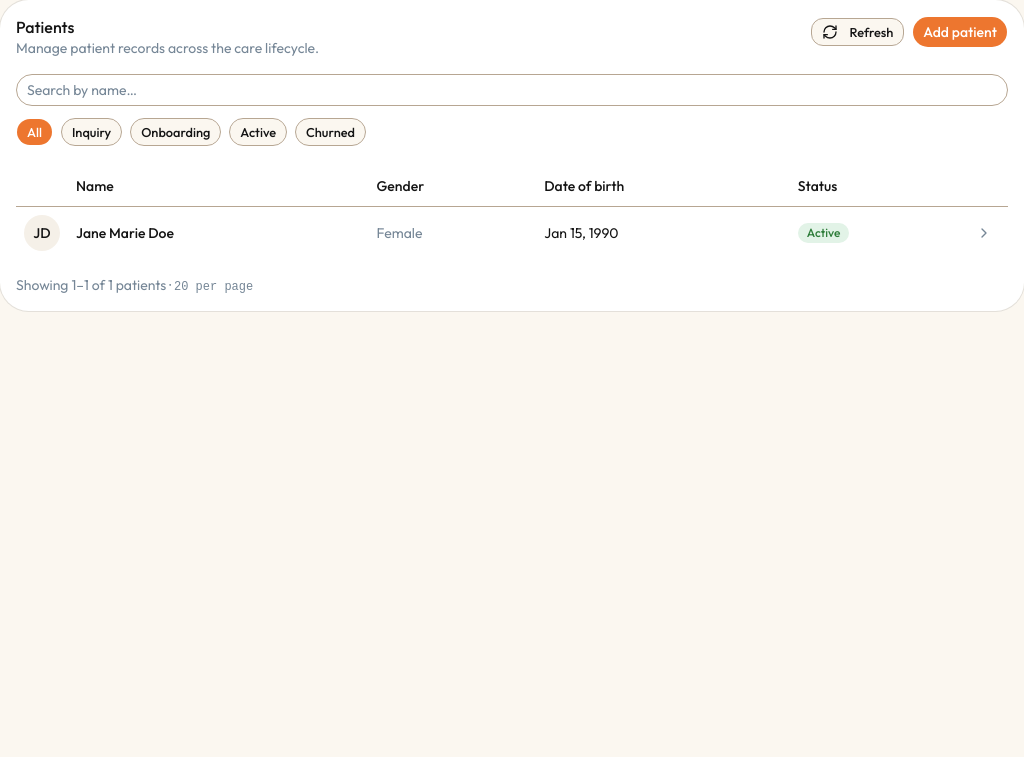
Scenario: PatientList → PatientDetailSheet integration › PL-I01: clicking a row opens detail sheet with full address block
This screenshot has width=1024, height=757.
Click the row "JD Jane Marie Doe Female Jan 15, 1990 Active".
click(42, 232)  # box [16,206,1008,258]
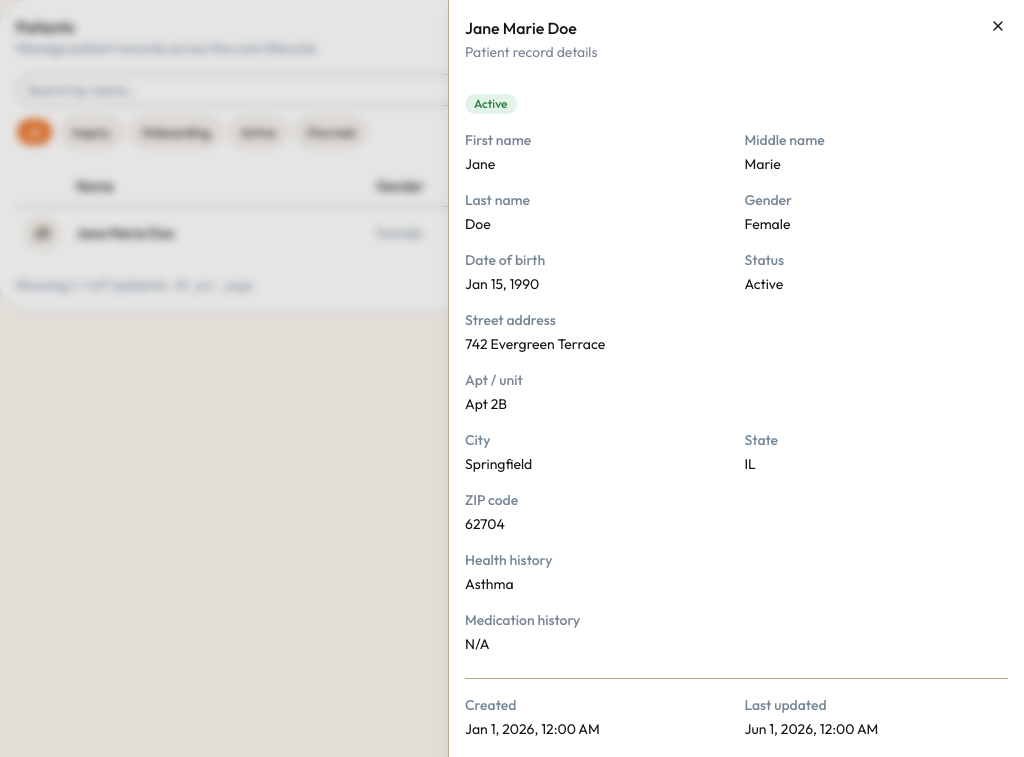
Expected: the text "Street address" is shown, [465,311,556,329]
Expected: the text "Apt / unit" is shown, [465,371,523,389]
Expected: the text "City" is shown, [465,431,490,449]
